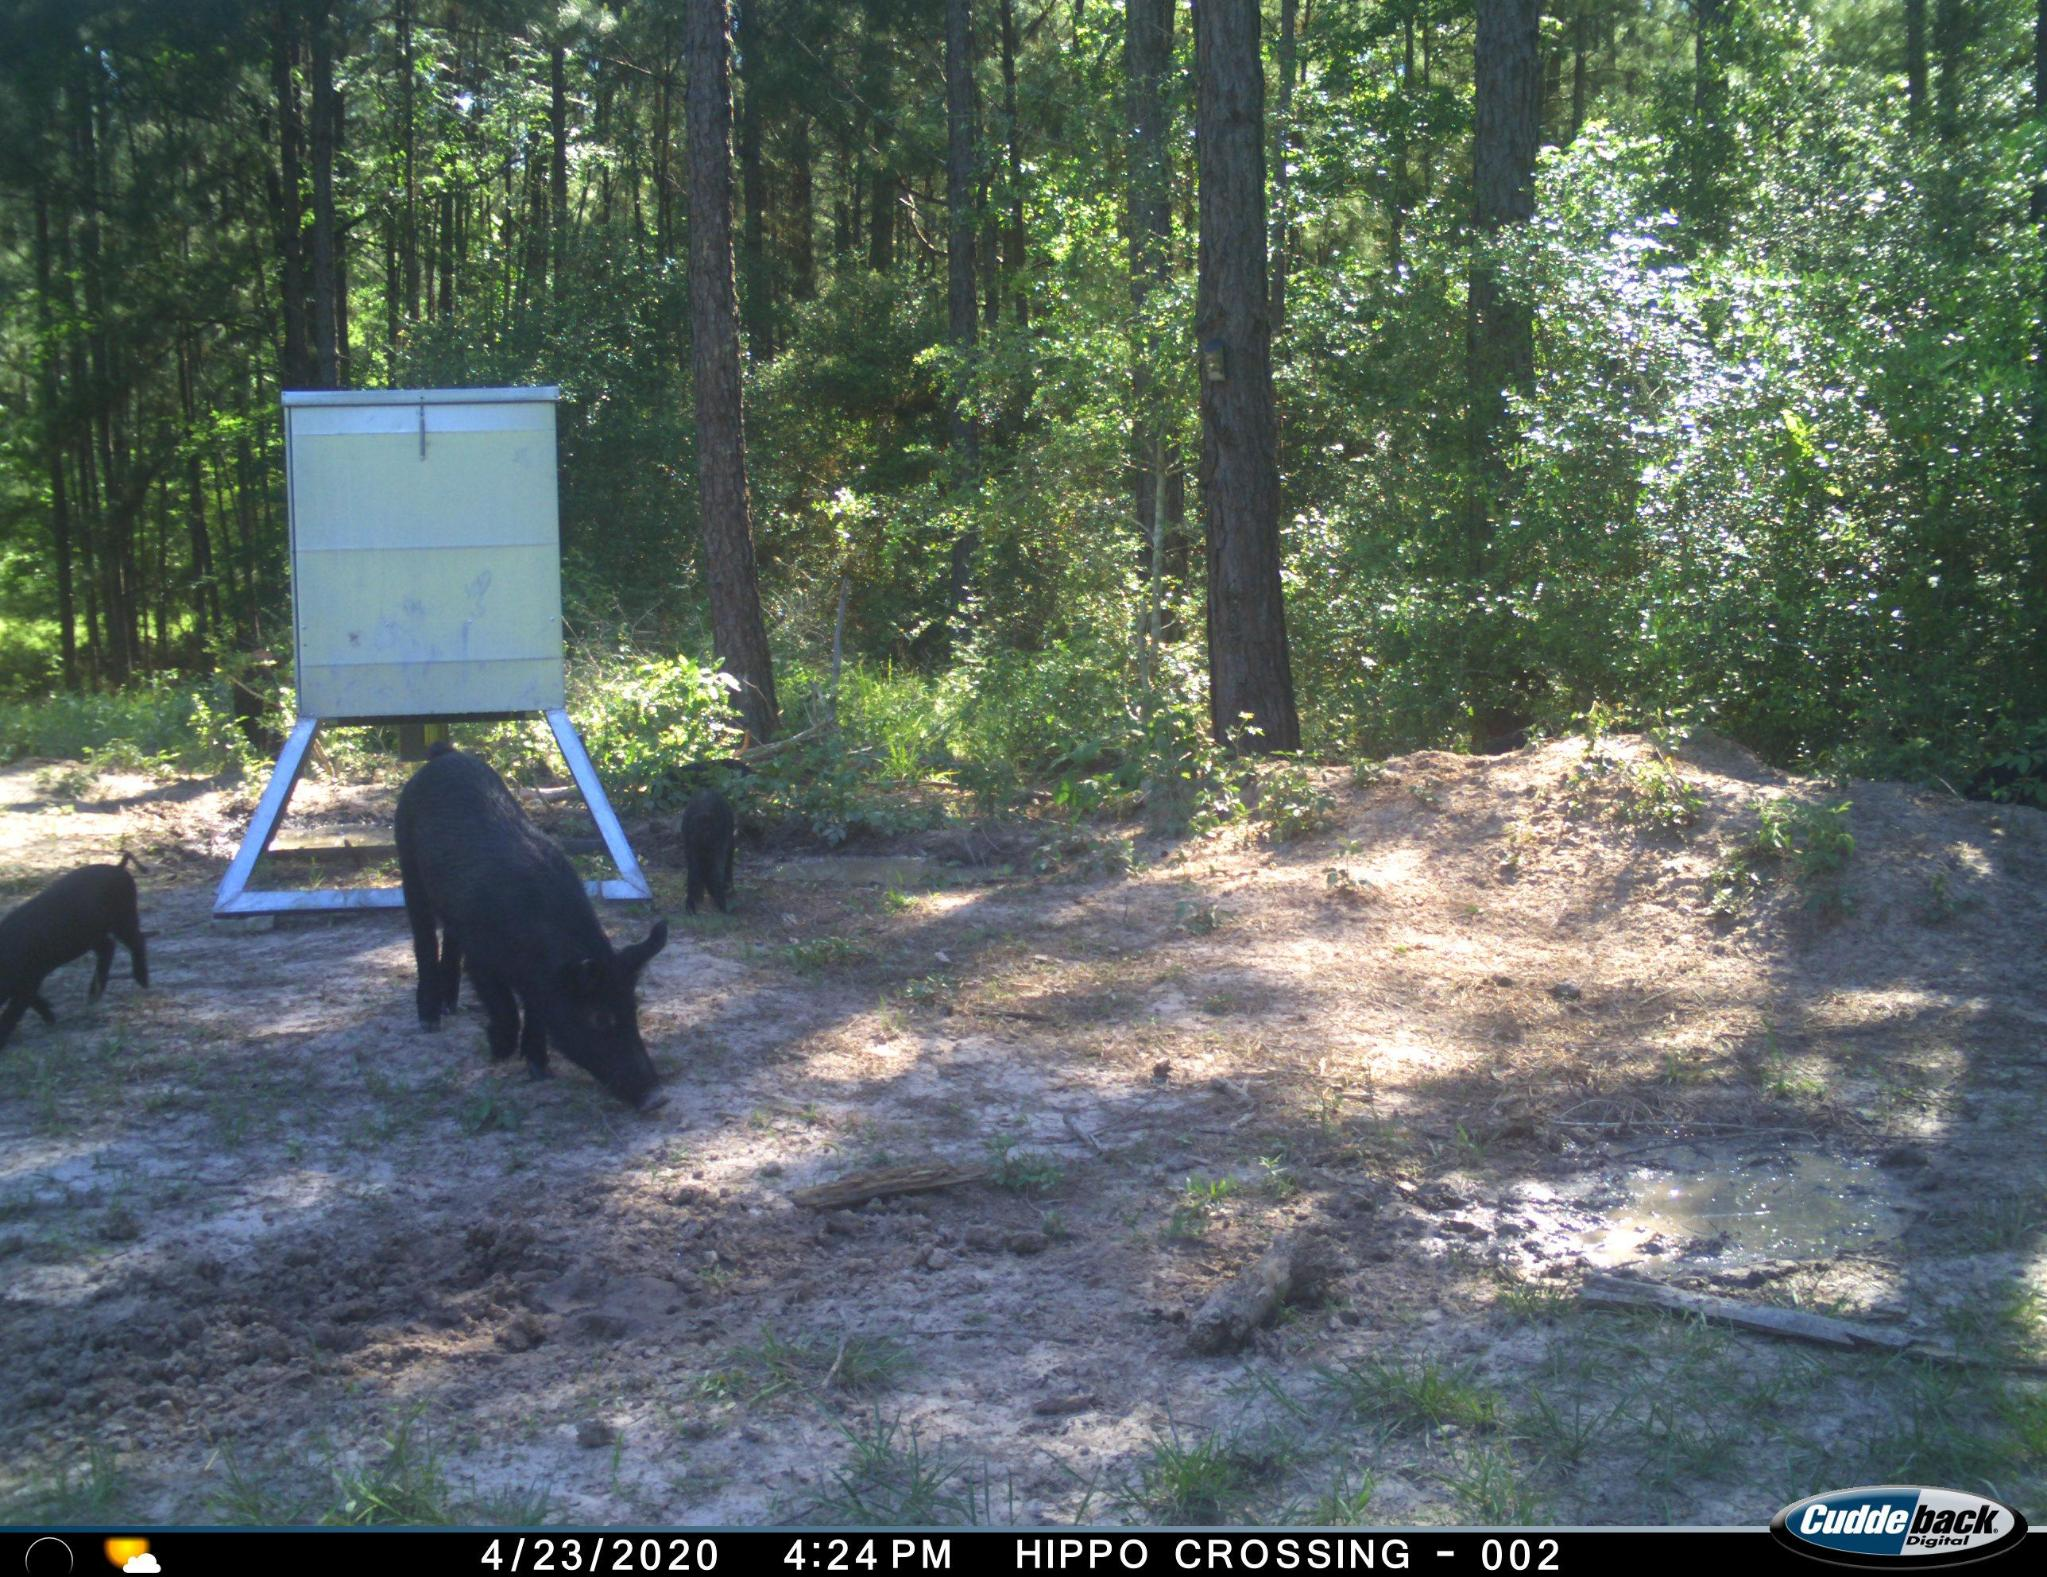Hog: (384, 739, 672, 1128), (0, 837, 156, 1055), (669, 780, 755, 926)
